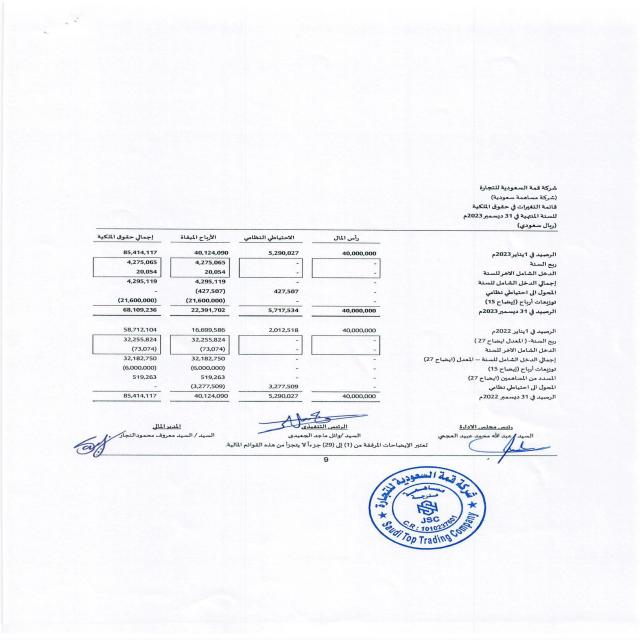financial_sheets: (465, 203, 560, 212)
table: (64, 232, 406, 410)
